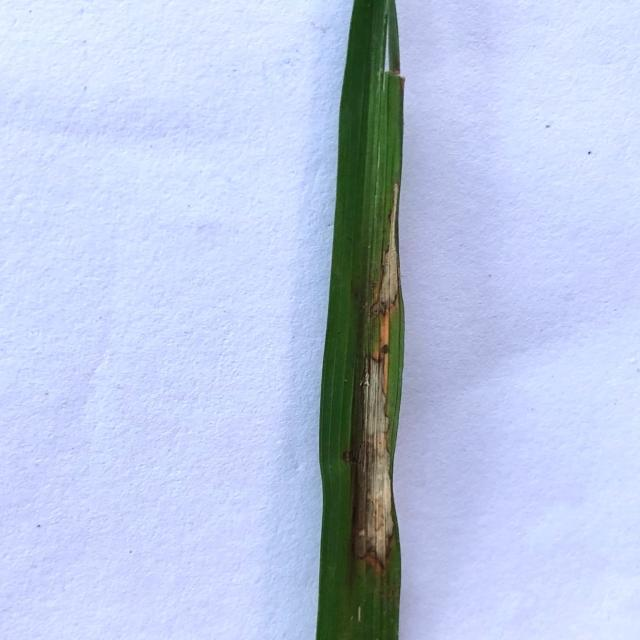leaf blight: (343, 183, 407, 579)
